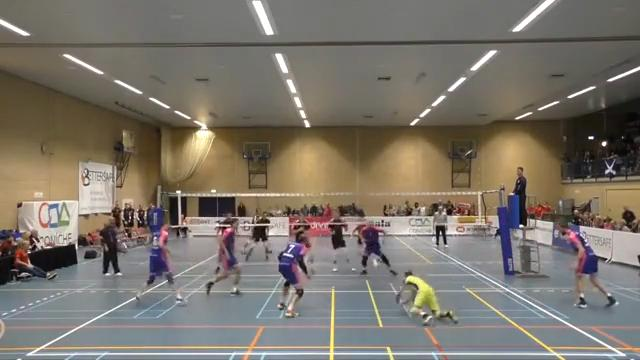Dig: (390, 269, 460, 330)
Player: (559, 224, 617, 307), (136, 225, 185, 304), (205, 218, 240, 294), (278, 236, 308, 317), (360, 221, 396, 275), (292, 214, 314, 273), (245, 212, 270, 260), (328, 216, 349, 271), (351, 217, 365, 254), (241, 226, 255, 254), (216, 215, 232, 236)
ball: (371, 258, 379, 268)
